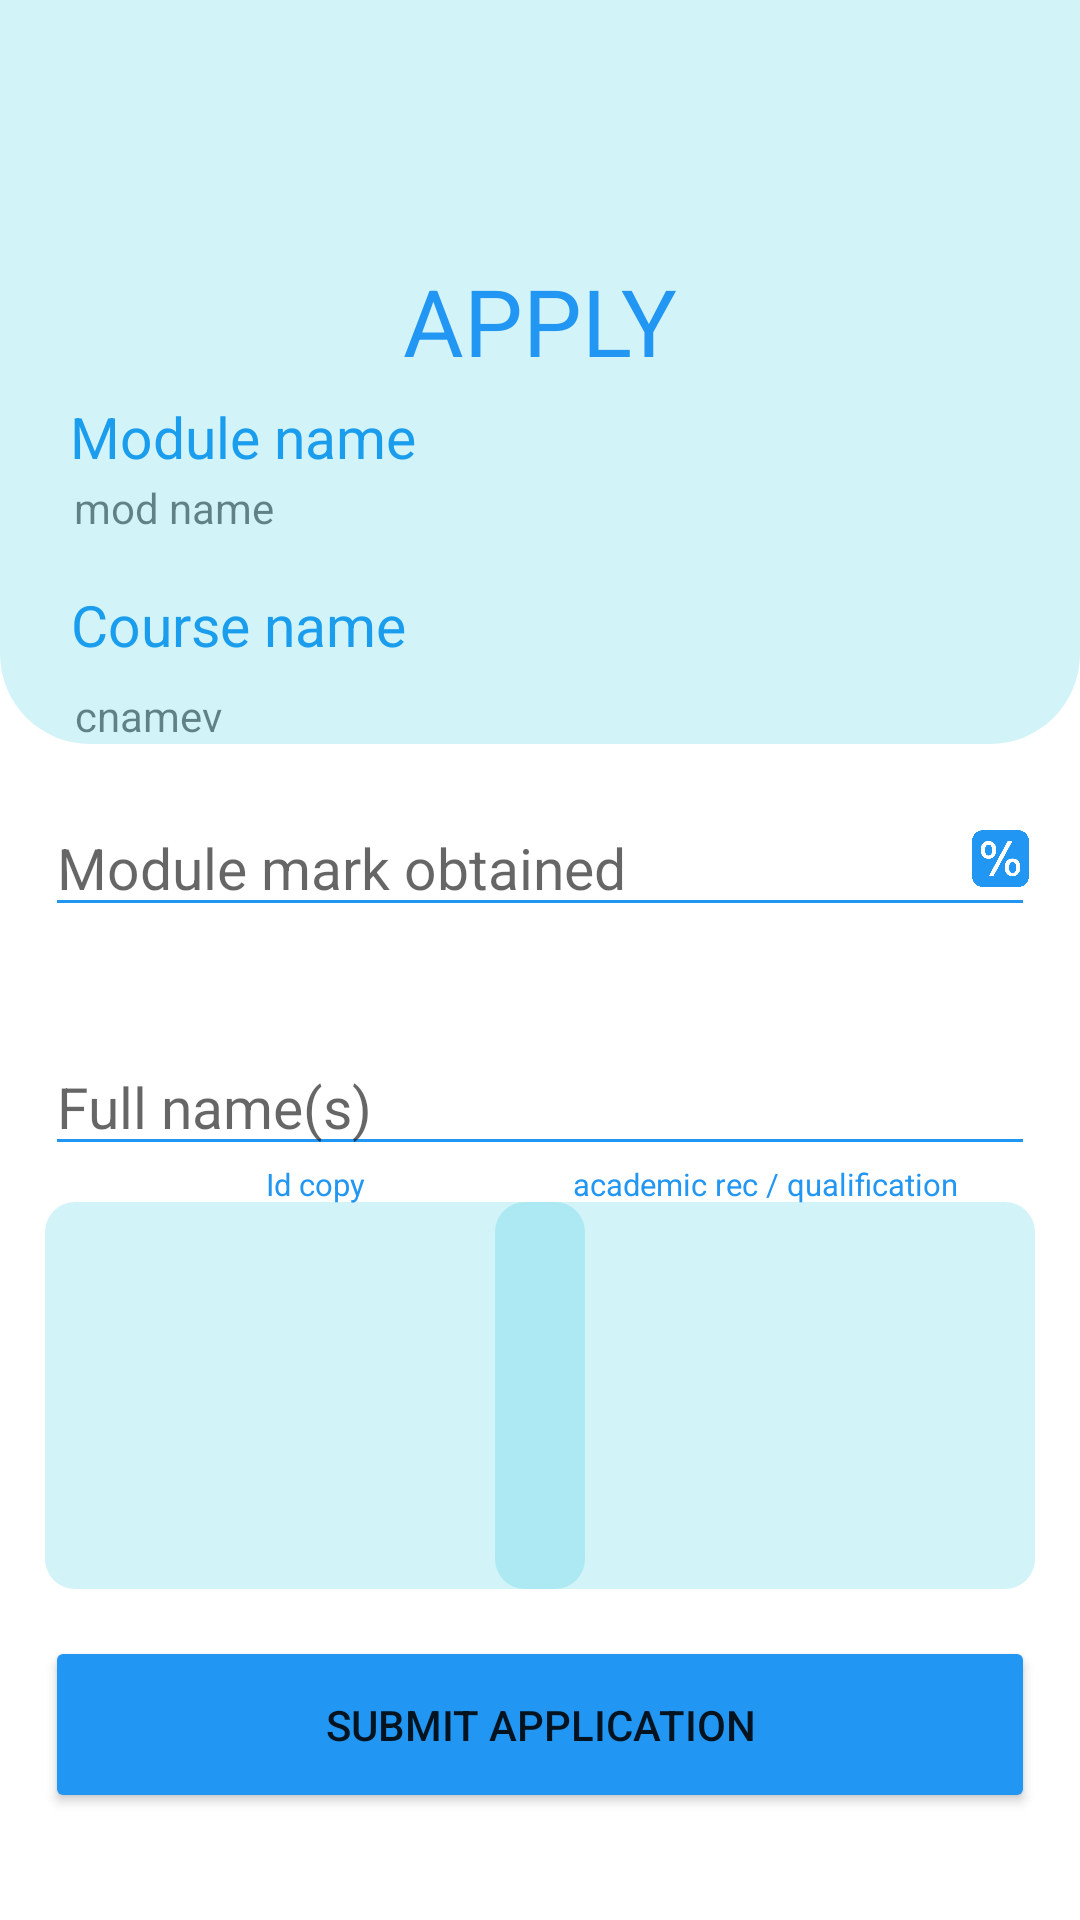

Where to tap for icons on this 1080w x 1920h app screen, as (x=x, y=y):
percentage: (x=1000, y=858)
